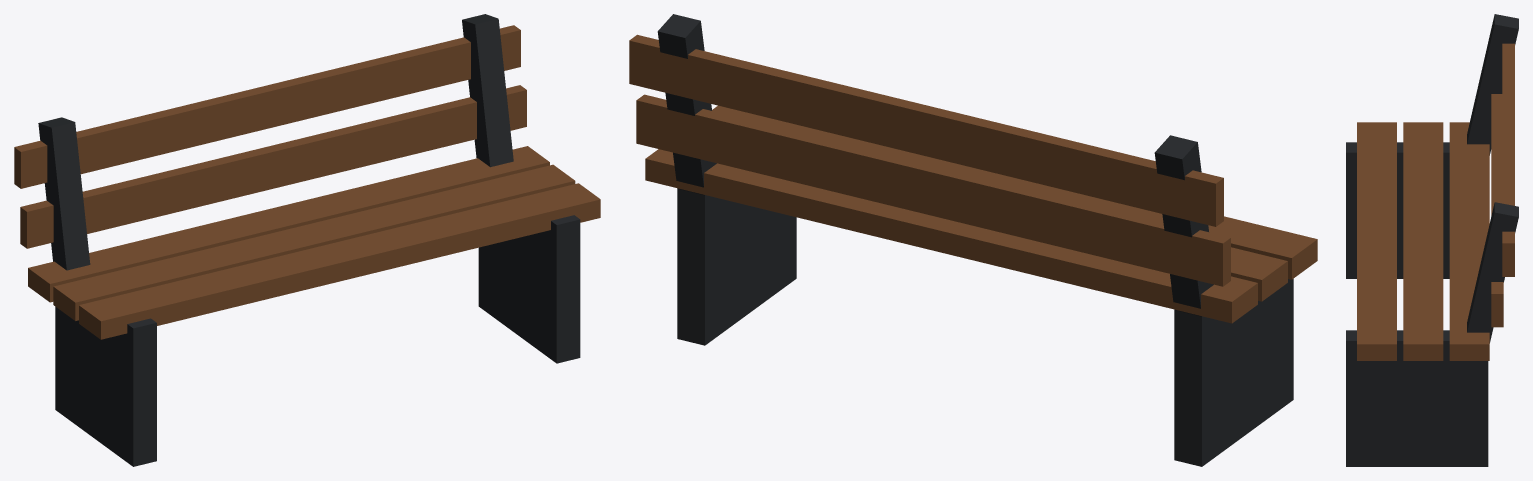
The model's file is c-bench.glb.
3 views of the same model, side by side, from view 1: azimuth 30°, elevation 25°; view 2: azimuth 150°, elevation 25°; view 3: azimuth 270°, elevation 25° (orthographic). The views are drawn at different scales.
Parts seen in each view (by area): view 1: c-bench; view 2: c-bench; view 3: c-bench.
Boxes of the visible parts, x1,y1,x2,y2 form: c-bench: (14, 14, 600, 466); c-bench: (629, 14, 1317, 466); c-bench: (1346, 14, 1518, 466).
Size of the model in its own units: 0.85 by 0.4541 by 0.2796.
